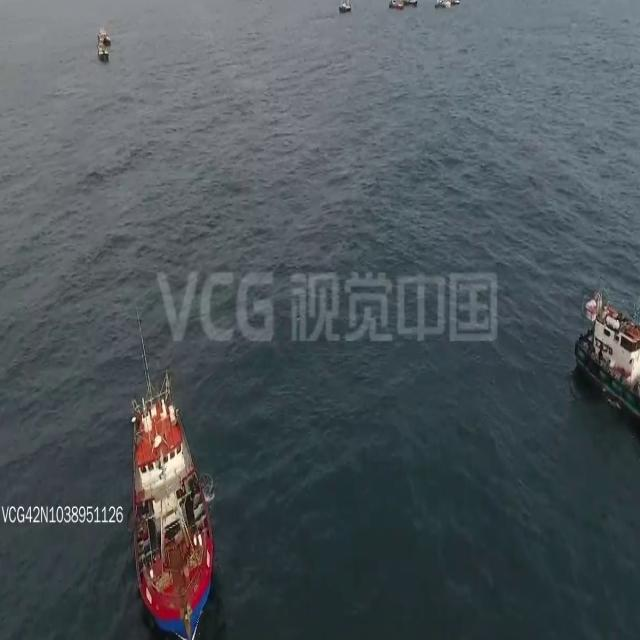fishing boat: (125, 371, 217, 640), (571, 278, 640, 447)
